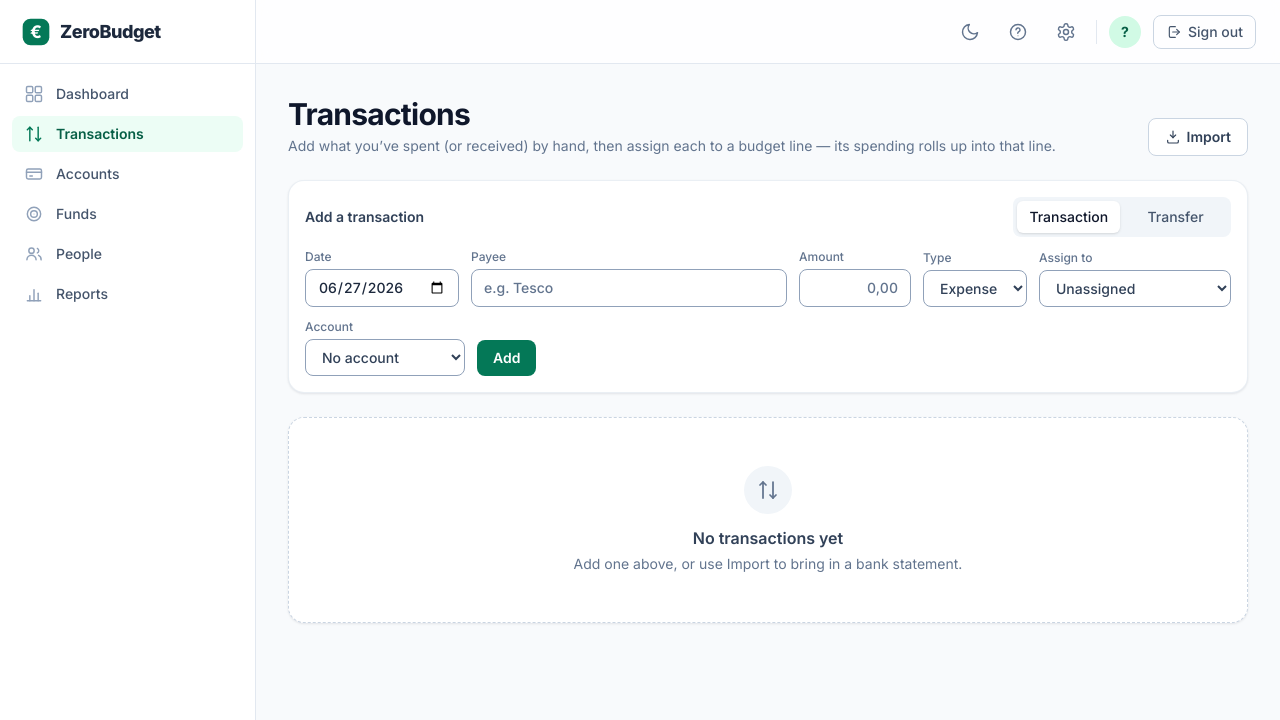
Test: TransactionsPage manual sheet › tags a new transaction to an account
This screenshot has width=1280, height=720.
In the field named "Transaction payee": {"x": 629, "y": 288} left=471, top=269, right=787, bottom=307, type "Tesco"
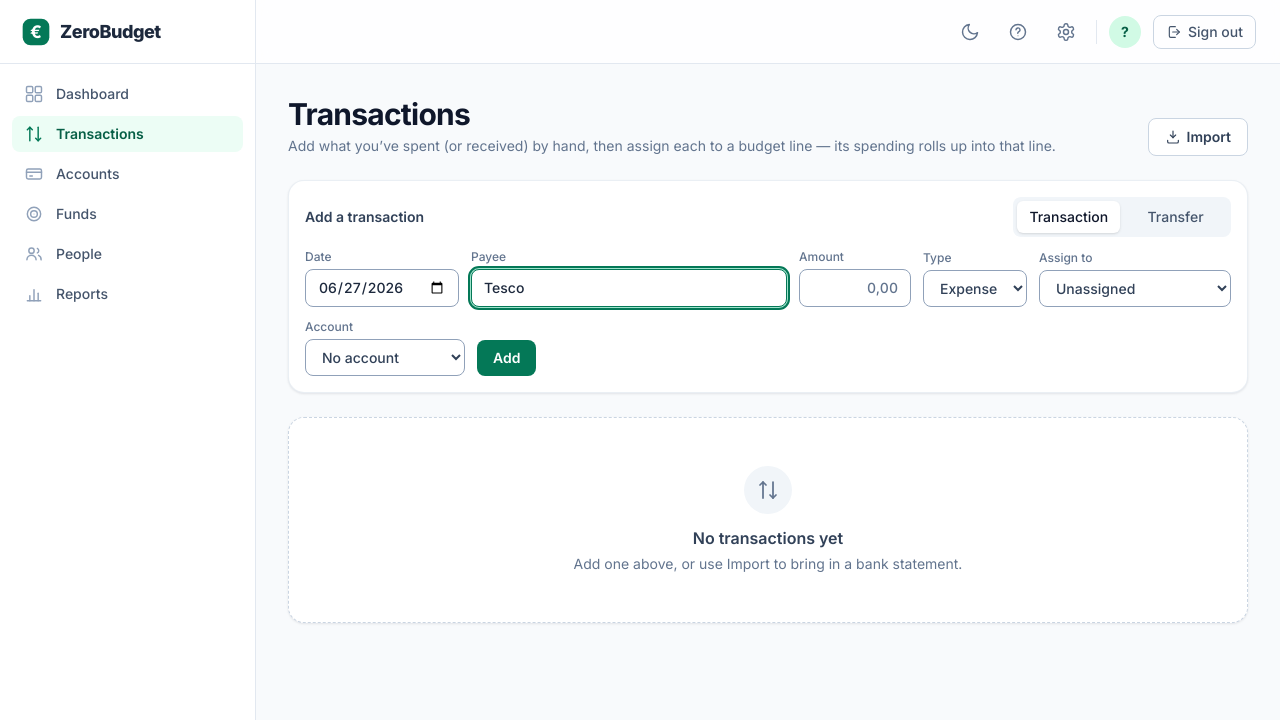
In the field named "Transaction amount": {"x": 855, "y": 288} left=799, top=269, right=911, bottom=307, type "12,50"
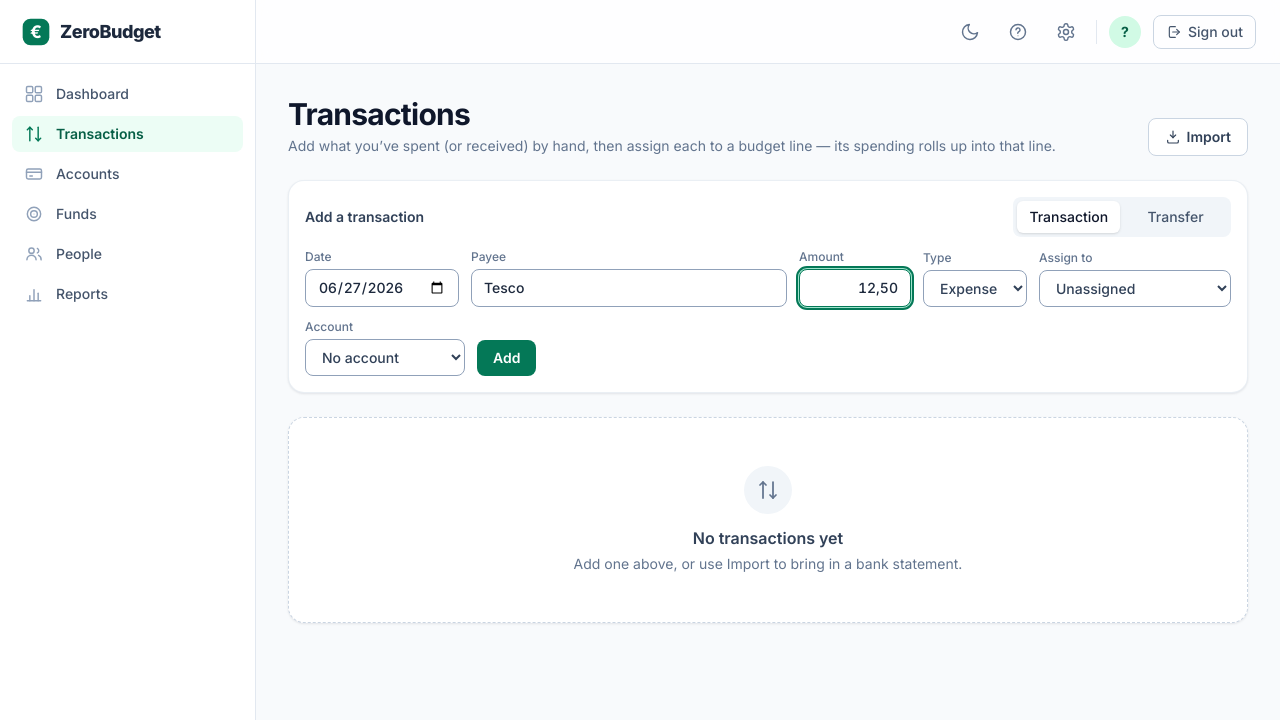
The account select appears once accounts have loaded.
Select "Everyday" in the dropdown named "Transaction account": {"x": 385, "y": 358} left=305, top=339, right=465, bottom=376
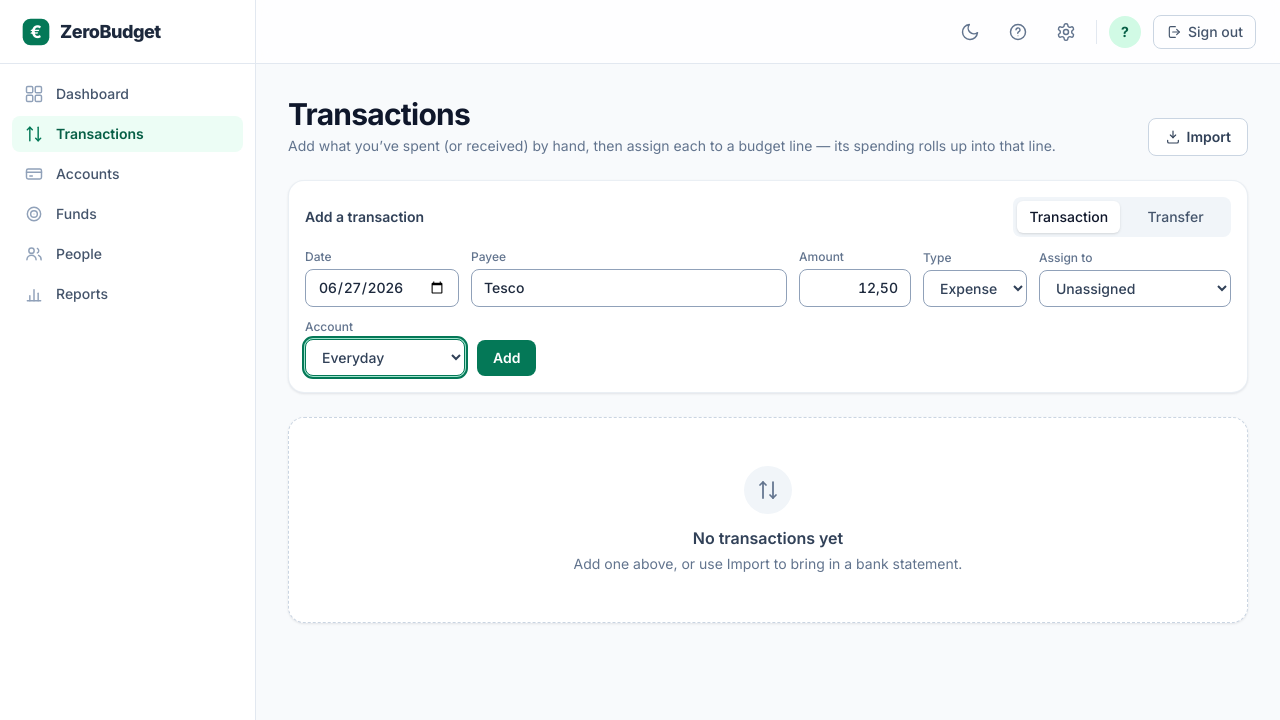
Click the button with aria-label "Add transaction": {"x": 507, "y": 358} left=477, top=340, right=536, bottom=376
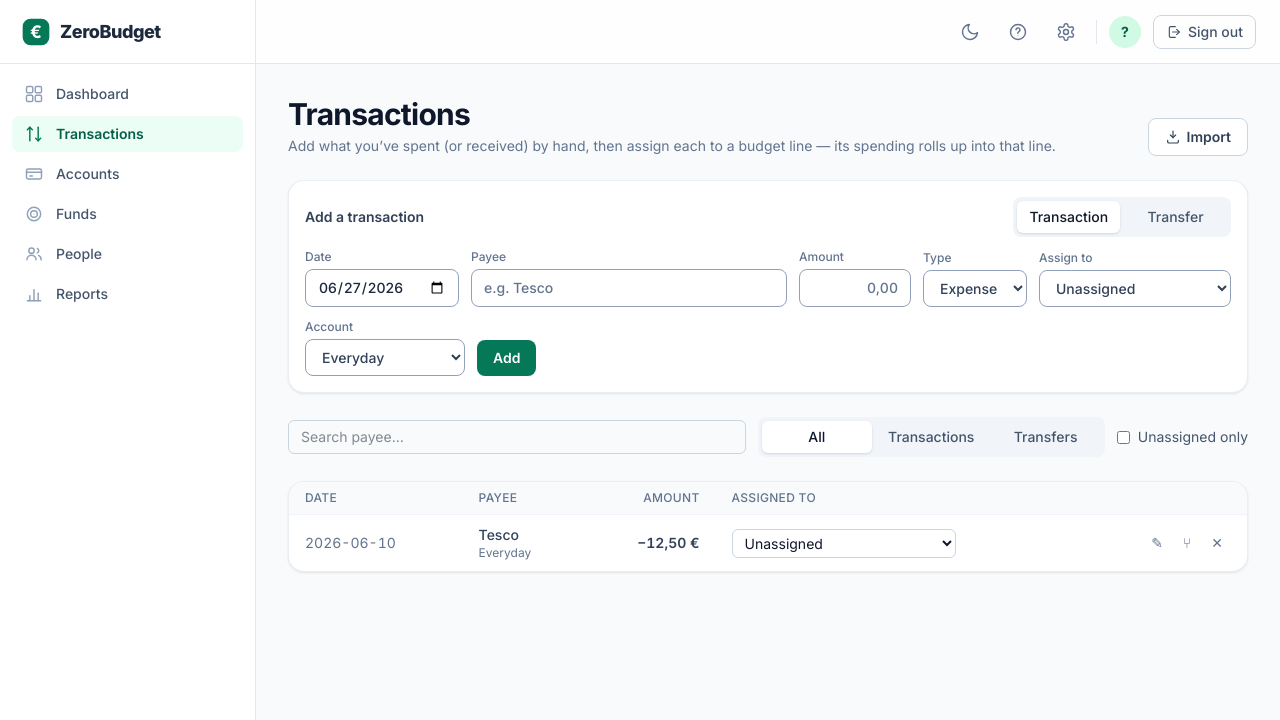
Expected: the text "Everyday" is shown, left=479, top=545, right=531, bottom=560
